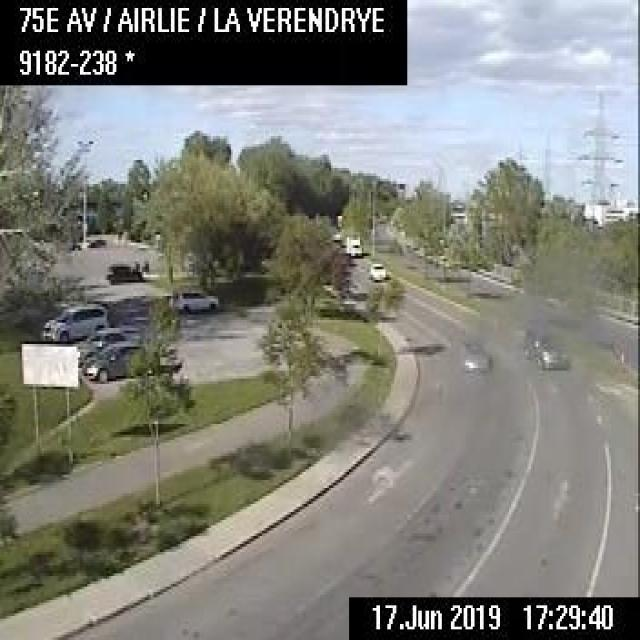vehicle: (79, 338, 145, 382), (42, 302, 106, 339), (74, 326, 123, 361), (171, 285, 220, 313), (459, 342, 492, 375), (105, 260, 142, 282), (537, 344, 567, 369), (366, 260, 389, 280), (345, 234, 363, 256)
